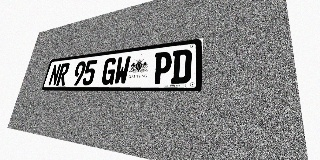5: (82, 60, 98, 85)
9: (71, 61, 87, 85)
D: (170, 49, 192, 84)
G: (100, 57, 118, 85)
N: (48, 64, 62, 86)
P: (152, 51, 172, 84)
R: (56, 63, 70, 86)
W: (113, 56, 131, 85)
